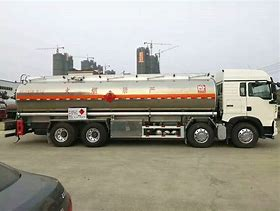oil truck: (14, 58, 278, 151)
